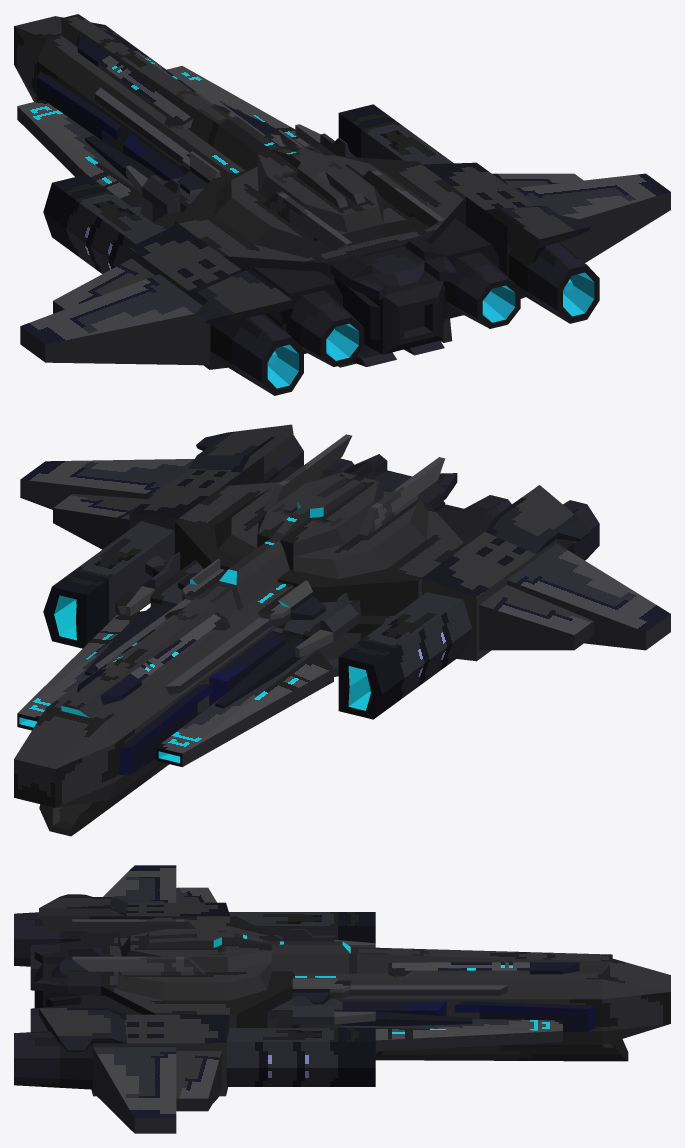
3 renders of one model, top to bottom at view 1: azimuth 30°, elevation 25°; view 2: azimuth 150°, elevation 25°; view 3: azimuth 270°, elevation 25°, orthographic. The views are drawn at different scales.
Parts seen in each view (by area): view 1: cylinder_7, cuboid_12, cylinder_6, cuboid_11, beveled_cuboid_8, cuboid_16, cuboid_14, cuboid_29, cuboid_42, cylinder_46, cylinder_48, cuboid_31 (+22 smaller); view 2: beveled_cuboid_8, cylinder_6, cylinder_7, cuboid_29, cuboid_11, cuboid_12, cuboid_32, cuboid_16, cuboid_42, cuboid_31, cuboid_14, cuboid_10 (+21 smaller); view 3: beveled_cuboid_8, cuboid_32, cylinder_6, cuboid_16, cuboid_42, cuboid_14, cylinder_7, cuboid_34, cuboid_11, cylinder_48, tube_0, cuboid_29 (+19 smaller).
Boxes of the visible parts, bbox=[...] form: cylinder_7: bbox=[175, 155, 465, 354]; cuboid_12: bbox=[20, 274, 209, 365]; cylinder_6: bbox=[214, 144, 428, 258]; cuboid_11: bbox=[129, 224, 293, 369]; beveled_cuboid_8: bbox=[14, 16, 244, 174]; cuboid_16: bbox=[422, 162, 590, 298]; cuboid_14: bbox=[513, 173, 670, 262]; cuboid_29: bbox=[43, 174, 163, 273]; cuboid_42: bbox=[61, 14, 279, 170]; cylinder_46: bbox=[210, 314, 303, 395]; cylinder_48: bbox=[508, 242, 599, 323]; cuboid_31: bbox=[17, 99, 152, 222]; beveled_cuboid_8: bbox=[14, 581, 292, 807]; cylinder_6: bbox=[214, 472, 428, 578]; cylinder_7: bbox=[175, 470, 465, 639]; cuboid_29: bbox=[338, 592, 471, 719]; cuboid_11: bbox=[422, 485, 590, 661]; cuboid_12: bbox=[507, 543, 670, 650]; cuboid_32: bbox=[43, 521, 174, 648]; cuboid_16: bbox=[129, 424, 293, 554]; cuboid_42: bbox=[61, 538, 289, 717]; cuboid_31: bbox=[156, 650, 333, 767]; cuboid_14: bbox=[20, 459, 194, 509]; cuboid_10: bbox=[479, 585, 593, 650]; beveled_cuboid_8: bbox=[292, 958, 670, 1044]; cuboid_32: bbox=[226, 1028, 375, 1086]; cylinder_6: bbox=[118, 926, 271, 1000]; cuboid_16: bbox=[39, 1008, 230, 1096]; cuboid_42: bbox=[271, 941, 612, 973]; cuboid_14: bbox=[93, 1047, 176, 1133]; cylinder_7: bbox=[34, 916, 292, 1027]; cuboid_34: bbox=[338, 1019, 562, 1051]; cuboid_11: bbox=[39, 894, 229, 931]; cylinder_48: bbox=[14, 1031, 92, 1089]; tube_0: bbox=[375, 1039, 628, 1061]; cuboid_29: bbox=[229, 912, 375, 943].
Bounding box in the file's own units: 4.5 × 1.16 × 4.94.
6 materials, 6 textured.
